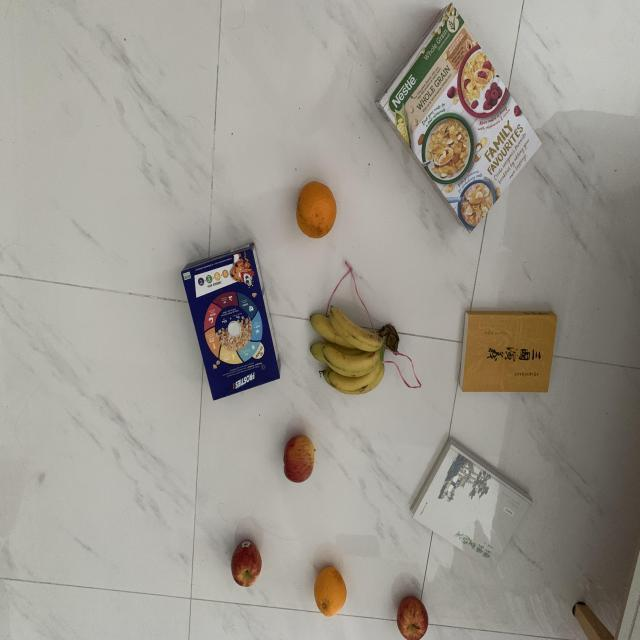Apple: (281, 432, 321, 486), (394, 590, 434, 638), (230, 537, 266, 589)
Banana: (307, 304, 402, 398)
Book: (408, 435, 534, 572), (455, 307, 561, 399)
Cerealbox: (373, 0, 545, 233), (180, 239, 284, 407)
Orange: (295, 178, 338, 238), (309, 565, 351, 619)
